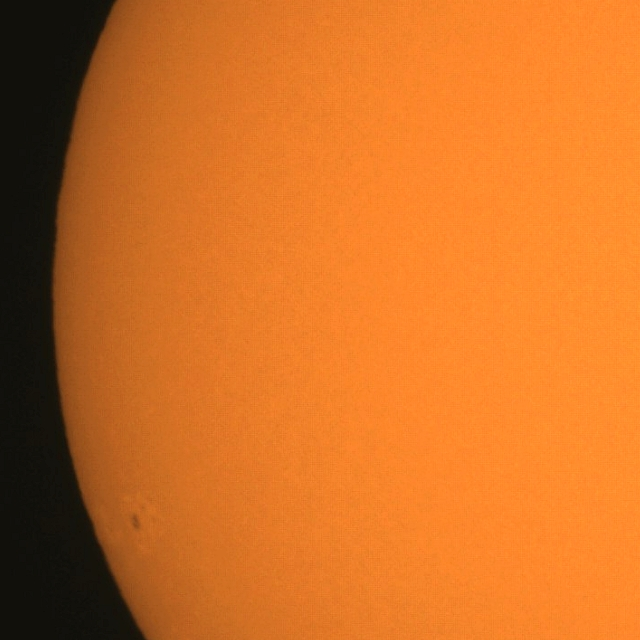sunspot: (129, 512, 143, 534)
